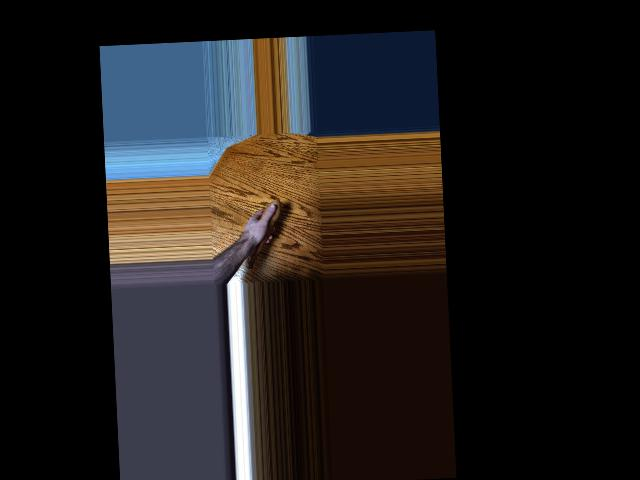sweet_potato: (241, 202, 282, 271)
